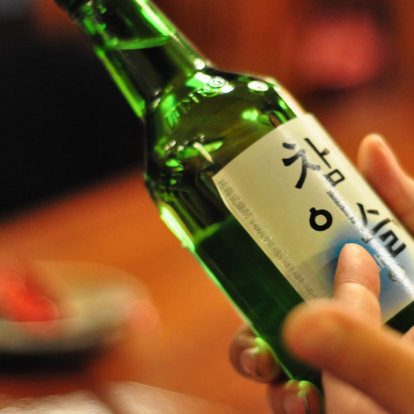soju: (44, 2, 414, 384)
